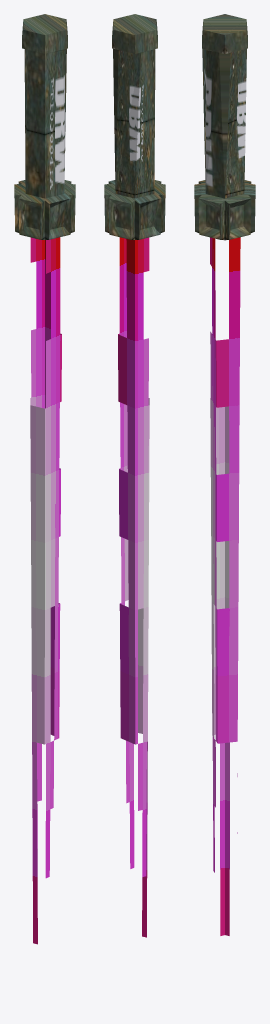
File: baton_wtf.obj
The picture shows the model from 3 angles, left to right: view 1: azimuth 30°, elevation 25°; view 2: azimuth 210°, elevation 25°; view 3: azimuth 270°, elevation 25°; orthographic projection.
Visible parts, largest first — view 1: group5, group3; view 2: group5, group3; view 3: group5, group3.
Boxes of the visible parts, x1,y1,x2,y2 form: group5: [30, 237, 61, 944]; group3: [14, 14, 75, 239]; group5: [118, 237, 149, 937]; group3: [104, 14, 165, 239]; group5: [210, 237, 240, 935]; group3: [194, 14, 255, 240].
Bounding box in the file's own units: 40.15 × 660 × 37.28.
